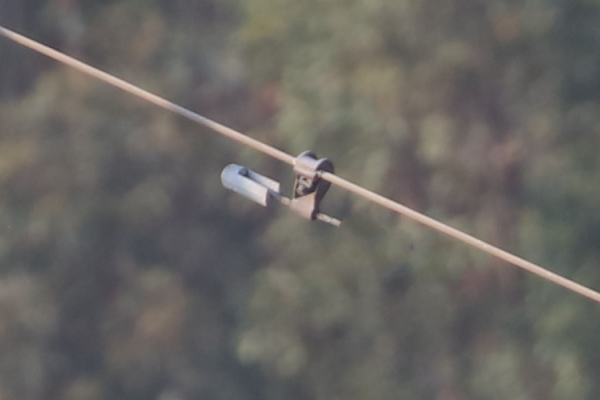damper_defect: (213, 144, 343, 229)
